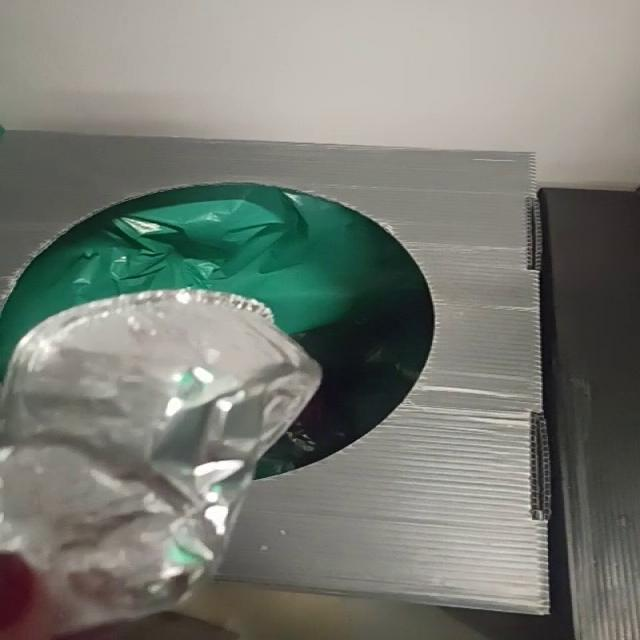bin: (1, 132, 549, 616)
metal: (1, 289, 321, 638)
